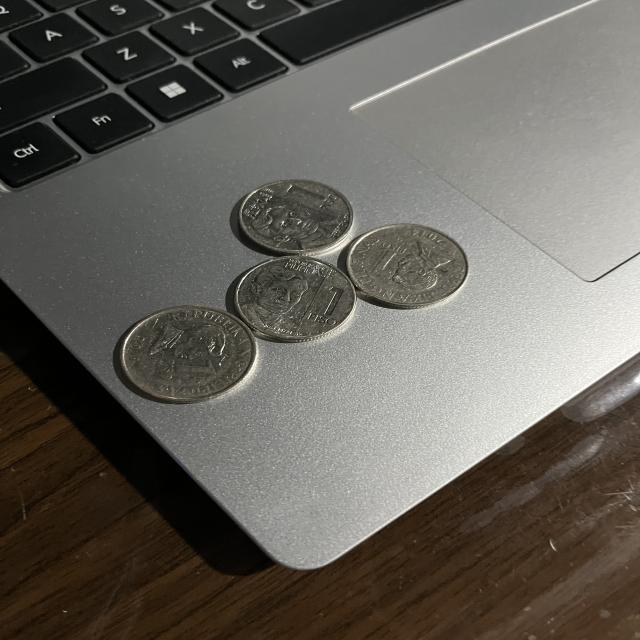1_New_Front: (250, 263, 343, 327), (249, 184, 344, 245)
1_Old_Front: (147, 322, 231, 382), (366, 233, 447, 291)
